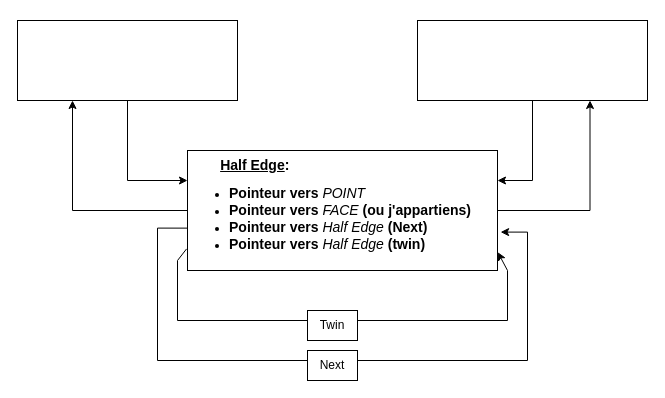
Image size: 665x398. Some labels were removed from this diagram. Each missing label, with the centre of its shape:
"FACE : pointeur vers Half Edge" belongs at point 532,60.
"POINT : Position(x,y,z) pointeur vers Half Edge" belongs at point 127,60.
